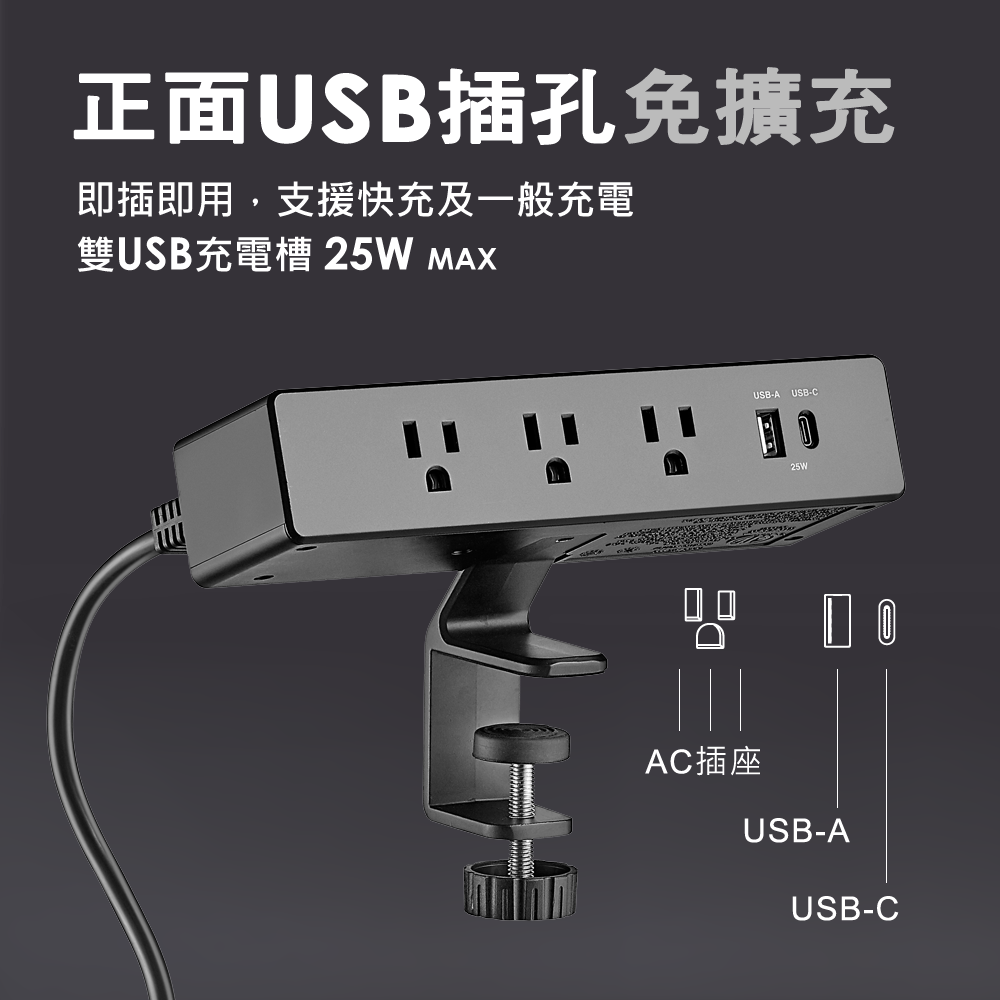socket: (143, 349, 905, 594)
